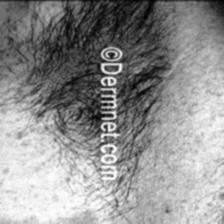Unclassified: (156, 201, 182, 221), (11, 127, 32, 144)
